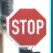stopsign: (7, 8, 47, 47)
